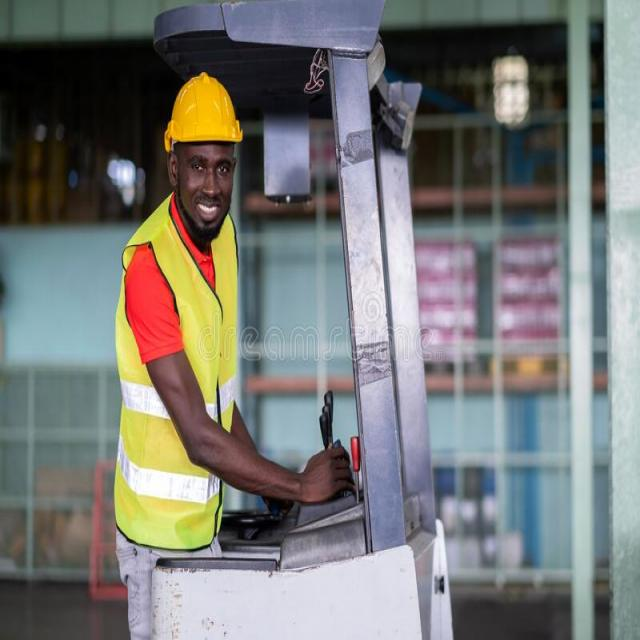Reflective-Jacket: (109, 197, 241, 553)
Safety-Helmet: (162, 67, 246, 153)
